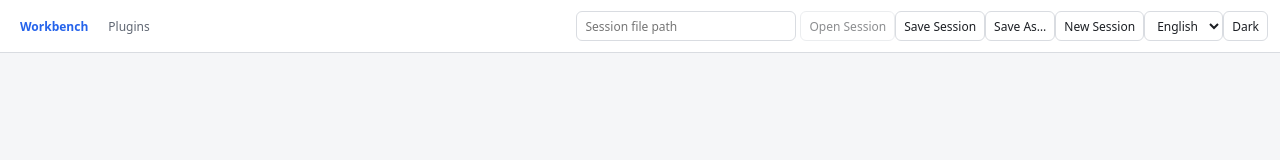
Test: TopBar (ipc-ui.md §4.1) › switches language and re-renders UI text
expect the button "New Session" is shown: met, box [1055,11,1144,41]
Select "中文" in the dropdown named "Language" at (1184, 26), box [1144,11,1223,41]
Wait 100 ms
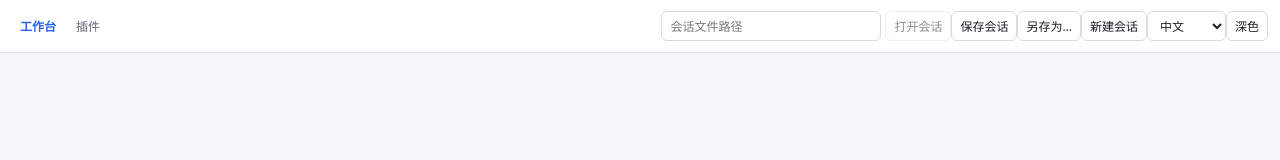
expect the button "新建会话" is shown: met, box [1081,11,1147,41]
